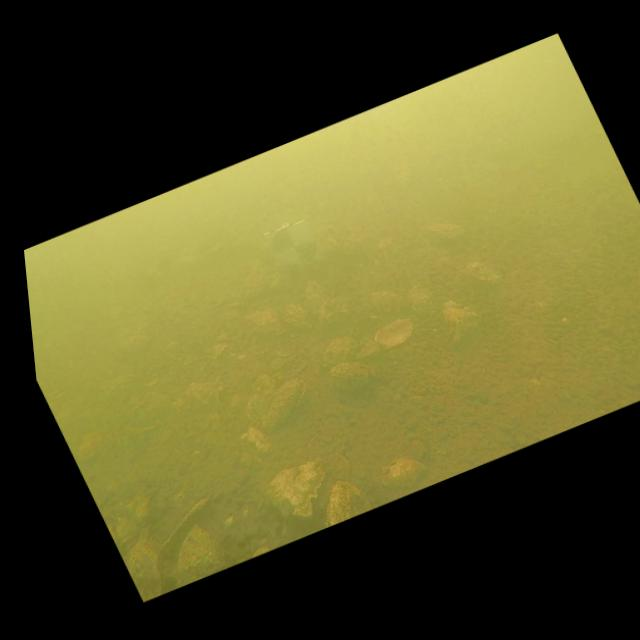Oyster-Closed: (268, 457, 326, 517), (262, 378, 307, 428), (326, 480, 373, 527), (129, 541, 162, 602), (173, 380, 226, 414), (443, 300, 480, 344), (129, 391, 173, 426), (381, 458, 427, 489), (330, 362, 376, 391), (322, 336, 361, 367), (120, 322, 152, 355), (249, 307, 286, 335), (424, 224, 466, 248), (319, 298, 350, 330), (463, 262, 500, 285), (372, 291, 408, 314), (407, 285, 434, 313), (285, 303, 312, 330), (305, 280, 327, 311)
Oyster-Indeterminate: (176, 522, 236, 581), (244, 371, 277, 420)
Oyster-Open: (157, 497, 209, 594), (357, 318, 413, 358)
